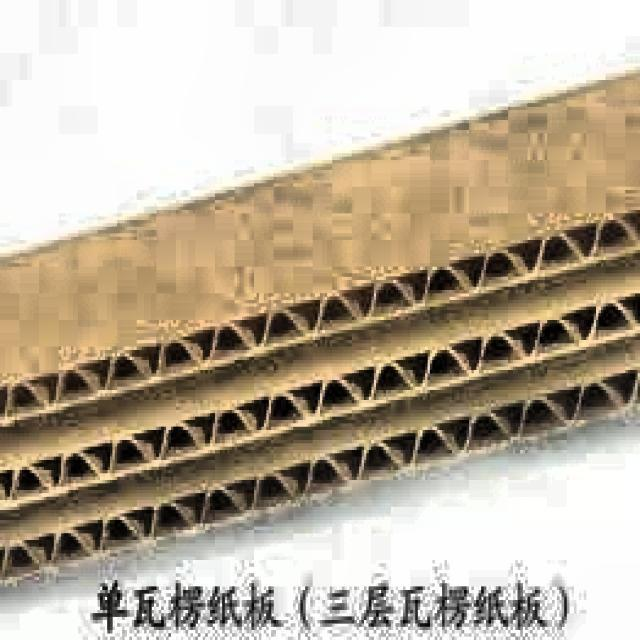cardboard: (0, 43, 638, 590)
